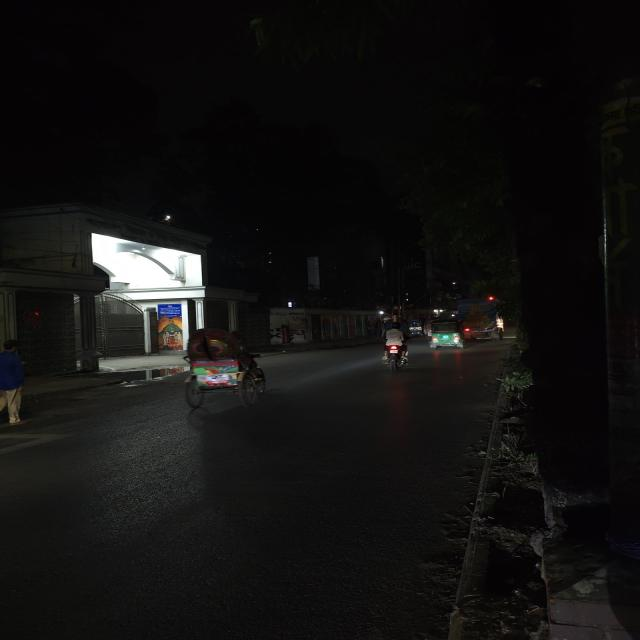cng: (424, 316, 469, 350)
motorcycle: (374, 320, 415, 374)
pedestrian: (0, 336, 39, 432)
rickshaw: (154, 321, 280, 409)
truck: (457, 300, 509, 341)
